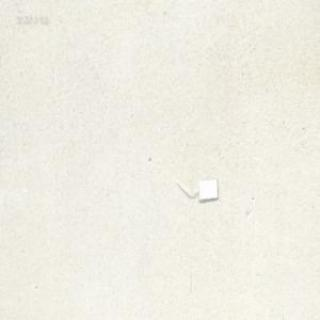LuggageTagtrack_idkeyframe: (175, 175, 218, 202)
